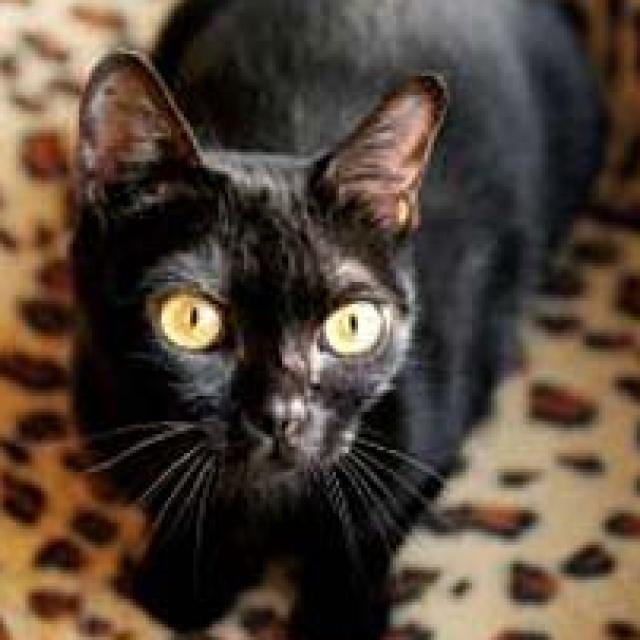Bombay: (60, 0, 605, 640)
